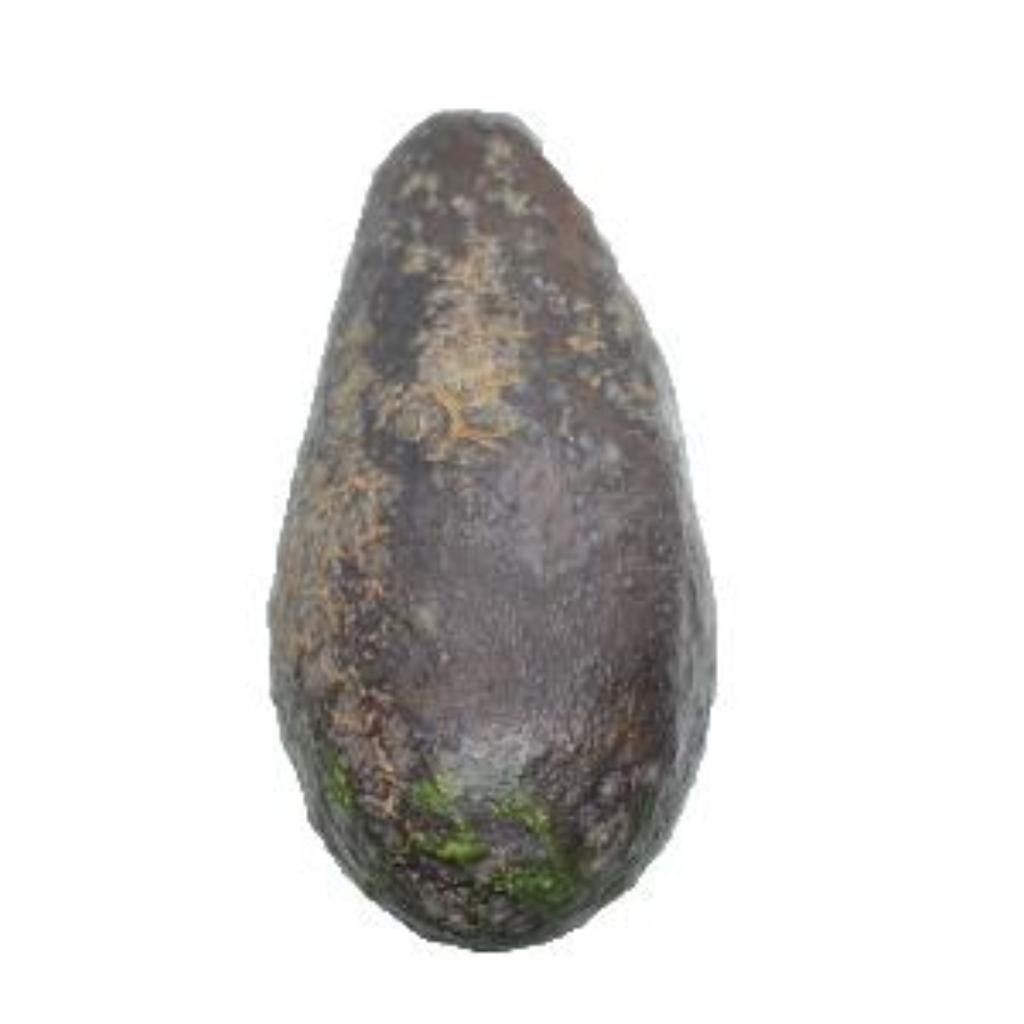cercospora: (260, 104, 724, 954)
